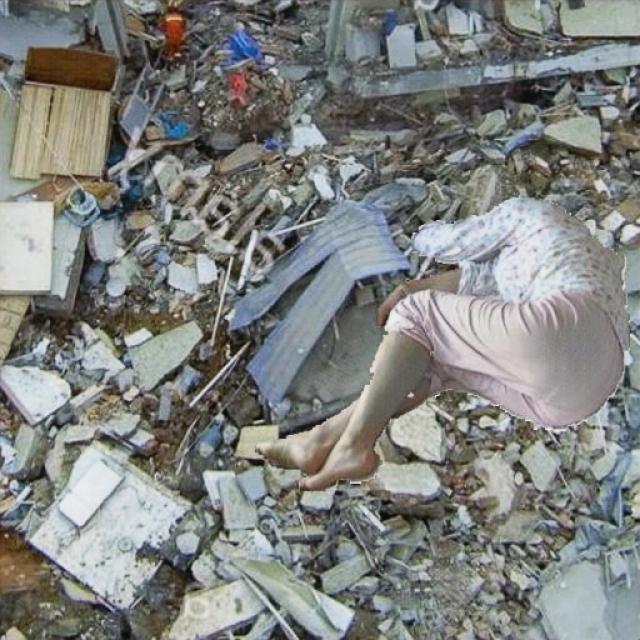Person in Rubble: (255, 195, 629, 490)
